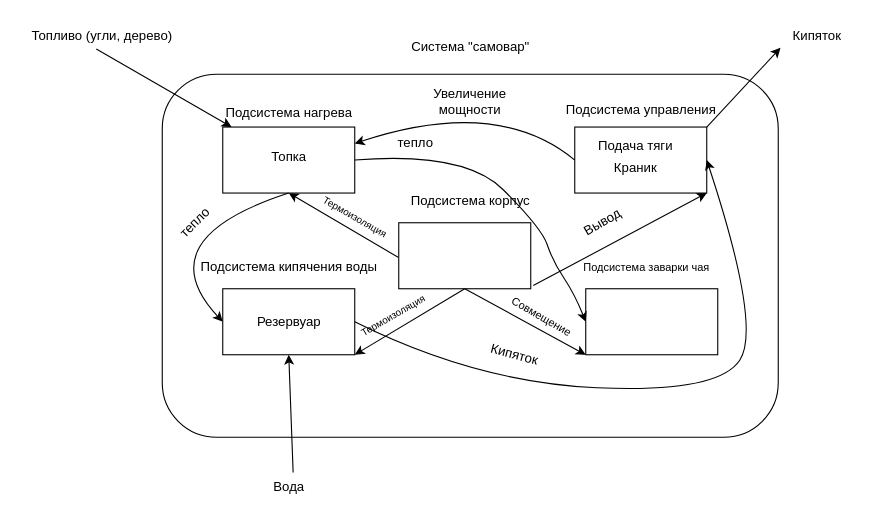
Some shapes in this 873 by 521 pixel diagram are drawn without their labels. The centre of each missing label's shape, as x and y in pixels:
"З аварник" goes at (651,321).
"Корпус самовара" goes at (464,255).
